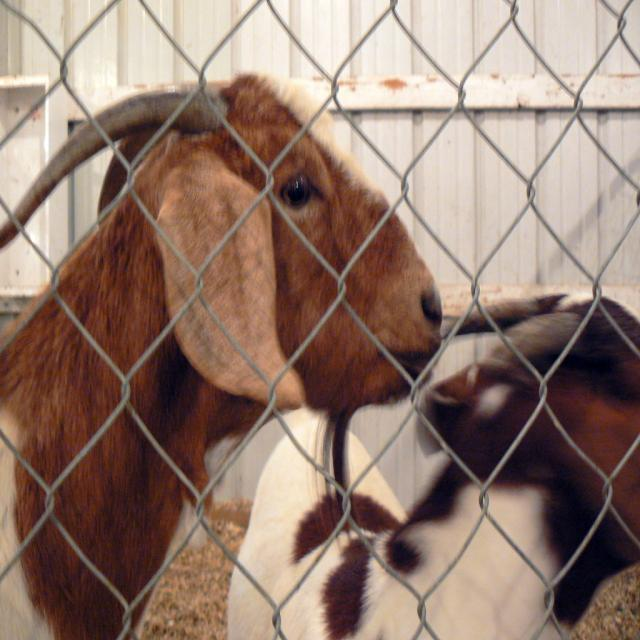Goat: (0, 70, 443, 638), (226, 291, 639, 638)
